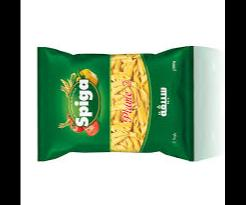Ressort: (38, 44, 193, 160)
